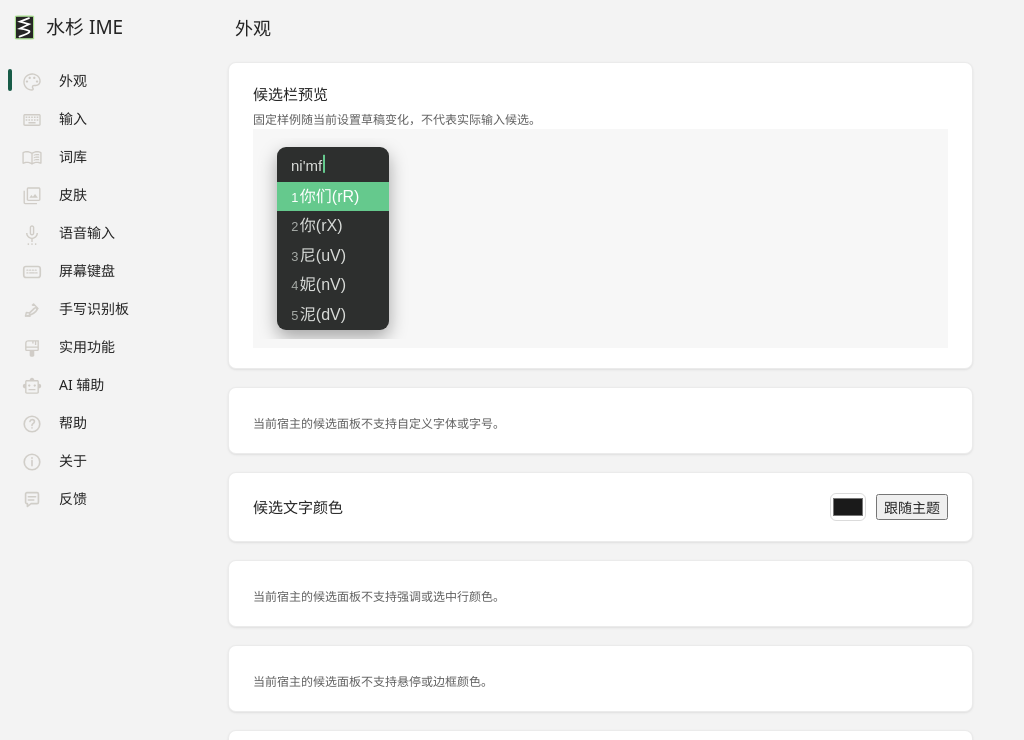
it: iOS voice settings list the new services and their preset models
Click the button "语音输入". click: {"x": 68, "y": 232}
box: [8,214,127,250]
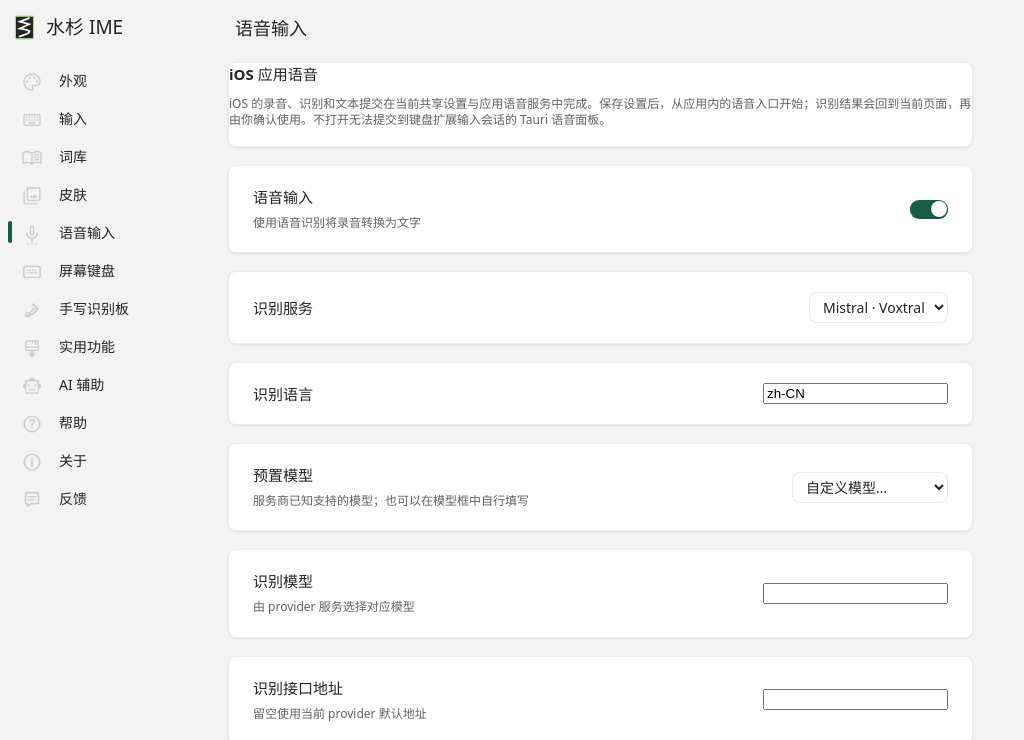
Now the dropdown labelled "识别服务" shows "Mistral · Voxtral", box [809,292,948,323]
